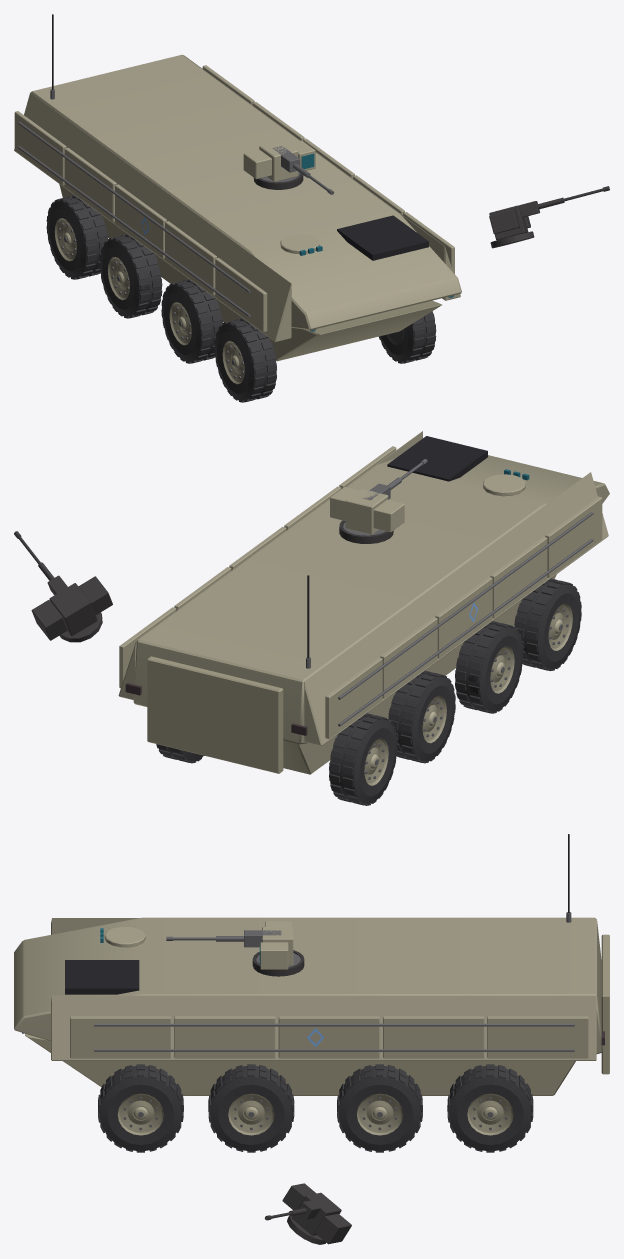
Rendered from apc__stryker.glb.
3 renders of one model, top to bottom at view 1: azimuth 30°, elevation 25°; view 2: azimuth 150°, elevation 25°; view 3: azimuth 270°, elevation 25°, orthographic. The views are drawn at different scales.
Parts seen in each view (by area): view 1: Hull_Mesh, Wheel_L3_Mesh, Wheel_L1_Mesh, Wheel_L2_Mesh, Wheel_L0_Mesh, Wreck, Turret_Mesh, Wheel_R3_Mesh, Gun_Mesh; view 2: Hull_Mesh, Wheel_L0_Mesh, Wheel_L2_Mesh, Wheel_L3_Mesh, Wheel_L1_Mesh, Wreck, Turret_Mesh; view 3: Hull_Mesh, Wheel_R2_Mesh, Wheel_R0_Mesh, Wheel_R1_Mesh, Wheel_R3_Mesh, Wreck, Turret_Mesh, Gun_Mesh.
Part boxes in pixels (<box>): Hull_Mesh: <box>14,14,461,361</box>; Wheel_L3_Mesh: <box>214,318,276,402</box>; Wheel_L1_Mesh: <box>99,234,162,318</box>; Wheel_L2_Mesh: <box>161,279,222,363</box>; Wheel_L0_Mesh: <box>46,195,107,279</box>; Wreck: <box>71,173,609,401</box>; Turret_Mesh: <box>243,140,315,182</box>; Wheel_R3_Mesh: <box>379,311,436,363</box>; Gun_Mesh: <box>272,146,334,194</box>; Hull_Mesh: <box>118,431,609,774</box>; Wheel_L0_Mesh: <box>329,713,397,805</box>; Wheel_L2_Mesh: <box>455,621,523,713</box>; Wheel_L3_Mesh: <box>514,578,581,670</box>; Wheel_L1_Mesh: <box>388,670,455,763</box>; Wreck: <box>14,520,556,798</box>; Turret_Mesh: <box>330,487,404,535</box>; Hull_Mesh: <box>14,834,609,1095</box>; Wheel_R2_Mesh: <box>208,1064,294,1152</box>; Wheel_R0_Mesh: <box>447,1064,533,1152</box>; Wheel_R1_Mesh: <box>337,1064,422,1152</box>; Wheel_R3_Mesh: <box>98,1064,183,1152</box>; Wreck: <box>108,950,516,1244</box>; Turret_Mesh: <box>256,921,300,969</box>; Gun_Mesh: <box>166,930,281,947</box>.
Size of what is drawn, in the model's own units: 6.48 by 3.19 by 7.23.
